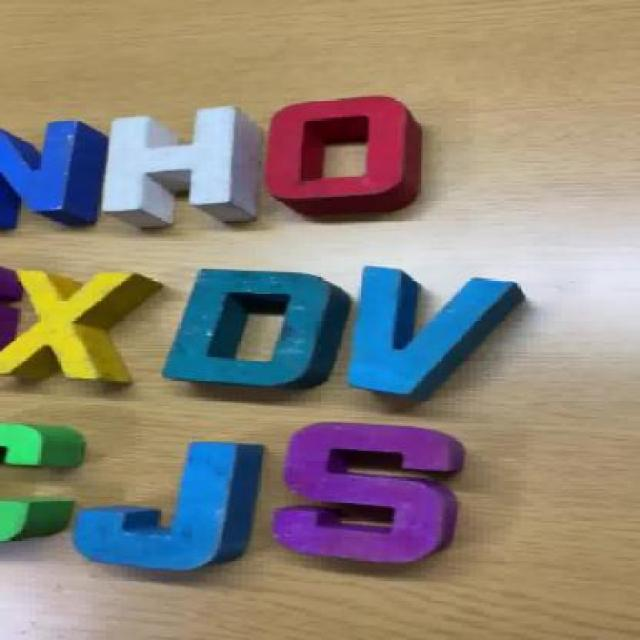D: (167, 268, 347, 390)
H: (98, 106, 260, 226)
J: (70, 439, 278, 573)
O: (266, 91, 452, 212)
S: (276, 420, 469, 563)
V: (334, 269, 538, 413)
X: (3, 266, 174, 397)
